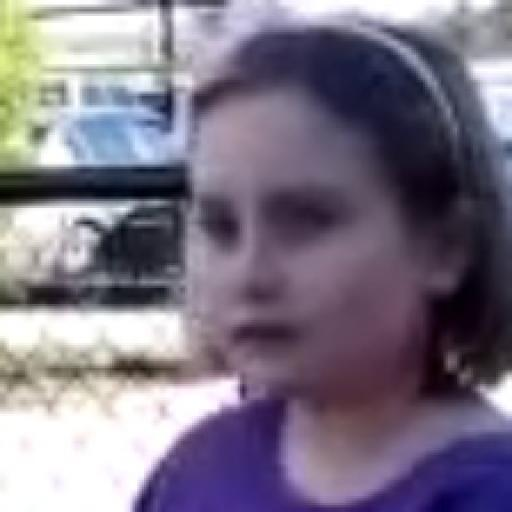Autism: (131, 34, 492, 490)
